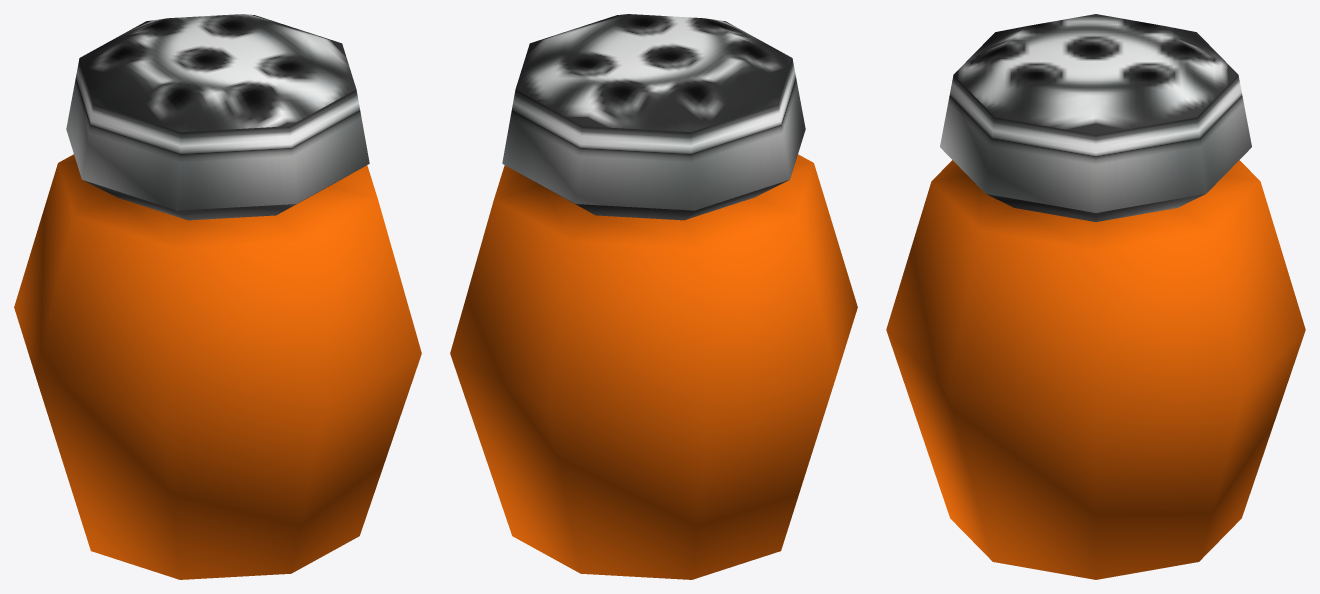
The model's file is Shaker_B.FBX.
3 views of the same model, side by side, from view 1: azimuth 30°, elevation 25°; view 2: azimuth 150°, elevation 25°; view 3: azimuth 270°, elevation 25° (orthographic).
Parts seen in each view (by area): view 1: Shaker; view 2: Shaker; view 3: Shaker.
Boxes of the visible parts, x1,y1,x2,y2 form: Shaker: (14, 14, 421, 579); Shaker: (450, 14, 857, 579); Shaker: (886, 14, 1305, 579).
Size of the model in its own units: 22.58 by 27.47 by 22.58.
